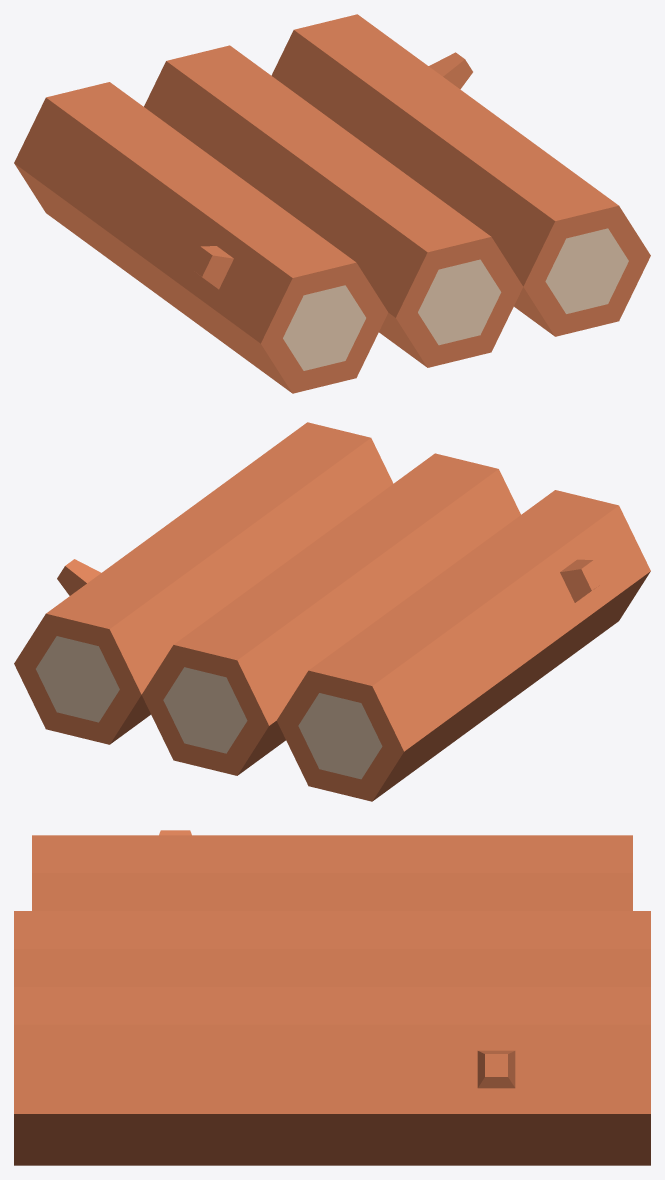
The model's file is Log_stackThree.FBX.
3 views of the same model, one above another, from view 1: azimuth 30°, elevation 25°; view 2: azimuth 150°, elevation 25°; view 3: azimuth 270°, elevation 25° (orthographic). The views are drawn at different scales.
Visible parts, largest first — view 1: log_stackThree; view 2: log_stackThree; view 3: log_stackThree.
Part boxes in pixels (left/top/right/bottom): log_stackThree: left=14, top=14, right=650, bottom=393; log_stackThree: left=14, top=422, right=650, bottom=801; log_stackThree: left=14, top=830, right=650, bottom=1165.
Bounding box in the file's own units: 0.634 × 0.1732 × 0.71.
